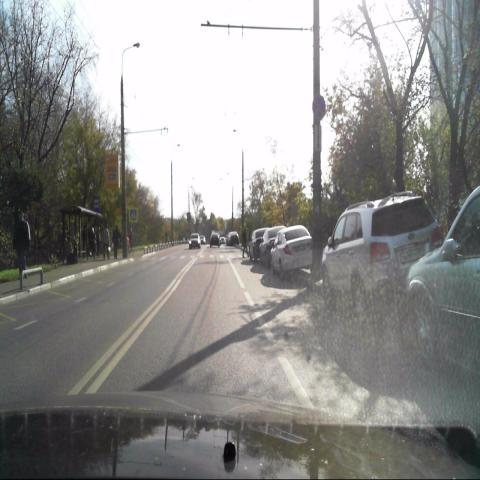8_2_3: (314, 125, 322, 153)
